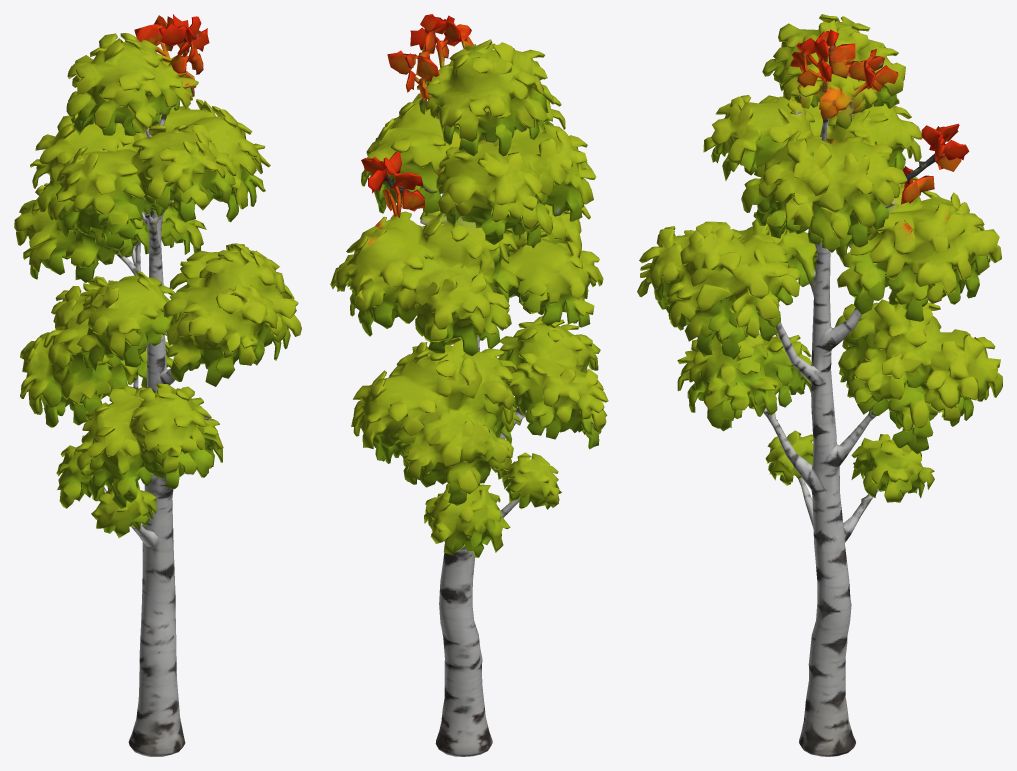
File: birch.glb
3 renders of one model, left to right at view 1: azimuth 30°, elevation 25°; view 2: azimuth 150°, elevation 25°; view 3: azimuth 270°, elevation 25°, orthographic.
Visible parts, largest first — view 1: tripo_node_b9c82c32-c3a9-4e59-8dca-e24c21e4a431; view 2: tripo_node_b9c82c32-c3a9-4e59-8dca-e24c21e4a431; view 3: tripo_node_b9c82c32-c3a9-4e59-8dca-e24c21e4a431.
Boxes of the visible parts, x1,y1,x2,y2 form: tripo_node_b9c82c32-c3a9-4e59-8dca-e24c21e4a431: (14,14,301,756); tripo_node_b9c82c32-c3a9-4e59-8dca-e24c21e4a431: (330,14,608,756); tripo_node_b9c82c32-c3a9-4e59-8dca-e24c21e4a431: (637,14,1002,756).
Bounding box in the file's own units: 0.3028 × 1 × 0.4565.
1 material, 1 textured.
